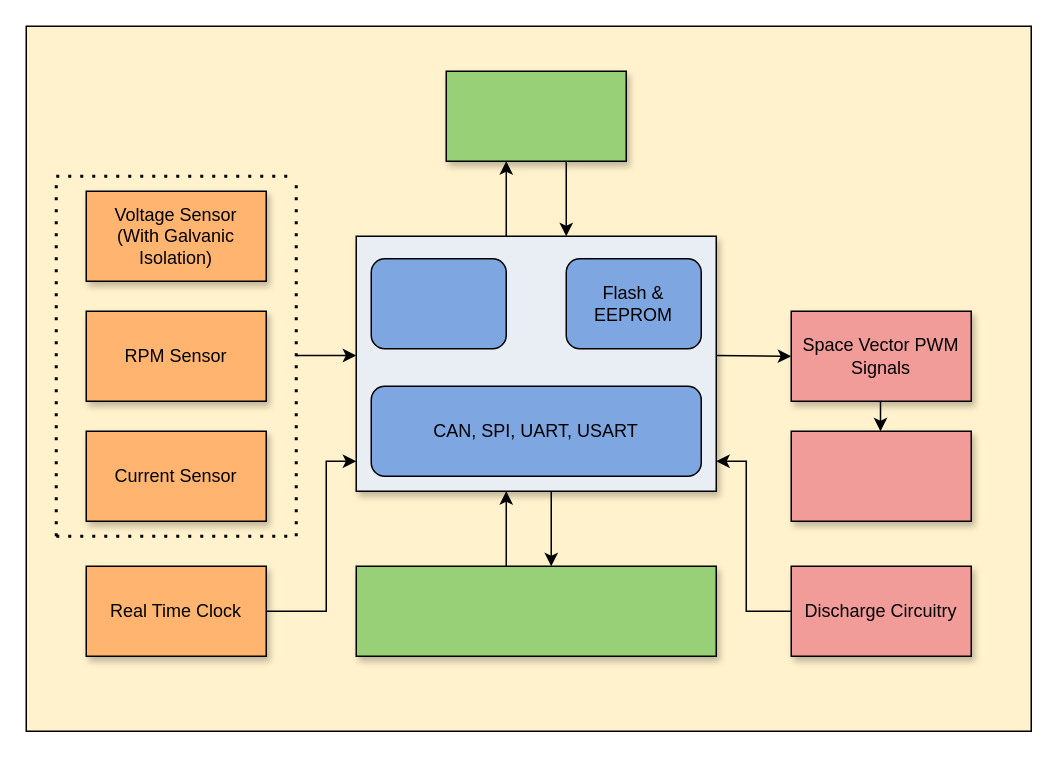
Image size: 1058x758. Some labels were removed from this diagram. Each missing label, with the centre of its shape:
"CAN Expansion Module" belongs at [537,118].
"Capacitor Bank" belongs at [882,478].
"Processor" belongs at [438,303].
"User's Personal Computer" belongs at [537,613].
